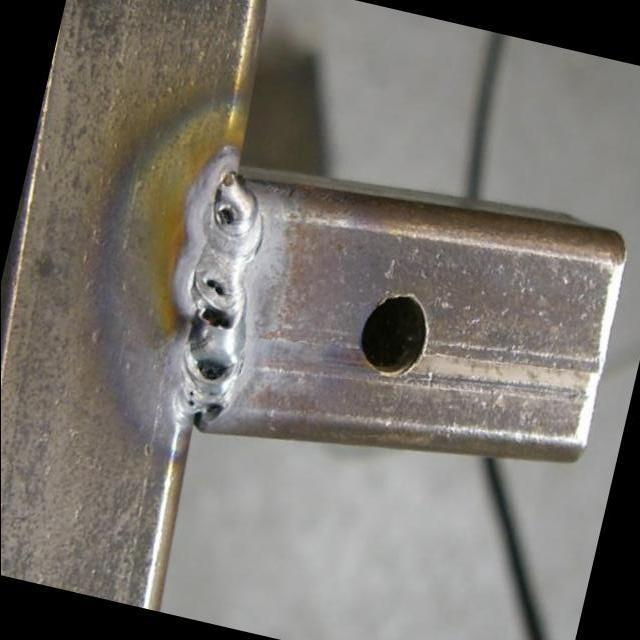defect: (195, 306, 235, 335), (193, 354, 229, 386), (202, 274, 229, 299), (214, 204, 235, 227), (202, 398, 222, 419), (185, 387, 196, 410)
